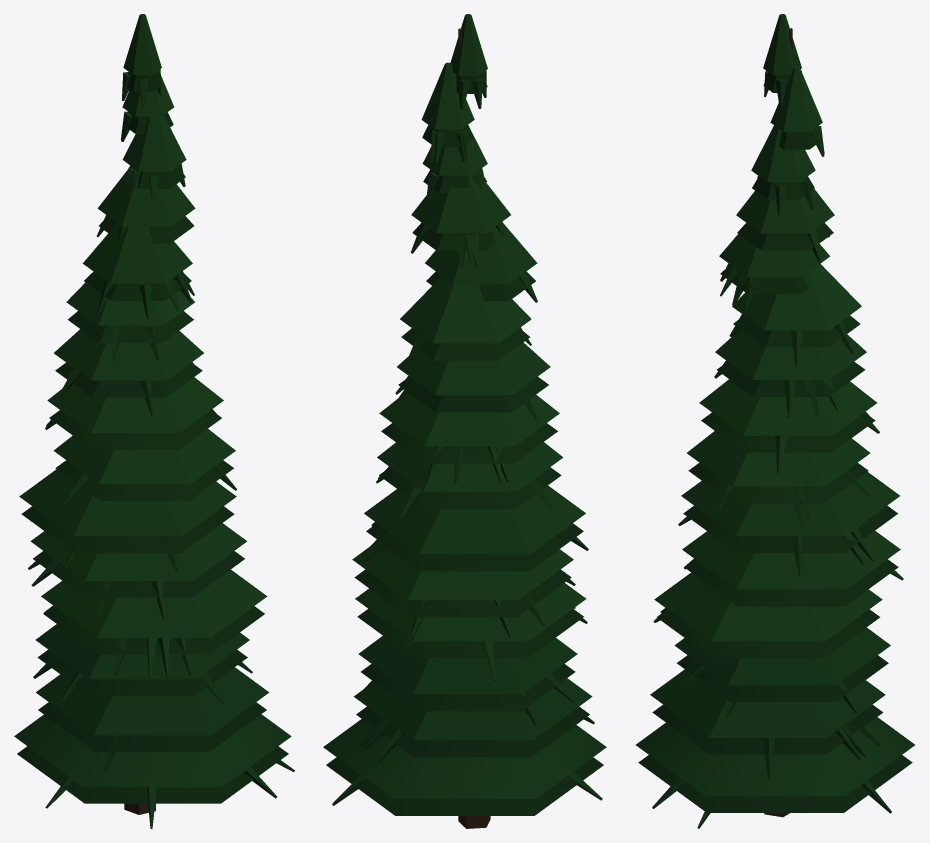
The model's file is tree_spruce_1_mid.glb.
The picture shows the model from 3 angles, left to right: view 1: azimuth 30°, elevation 25°; view 2: azimuth 150°, elevation 25°; view 3: azimuth 270°, elevation 25°; orthographic projection. The views are drawn at different scales.
Visible parts, largest first — view 1: leaf; view 2: leaf; view 3: leaf.
Boxes of the visible parts, left/top/right/bottom form: leaf: left=14, top=14, right=294, bottom=828; leaf: left=323, top=14, right=606, bottom=815; leaf: left=636, top=14, right=914, bottom=828.
Bounding box in the file's own units: 4.03 × 13.53 × 4.31.
